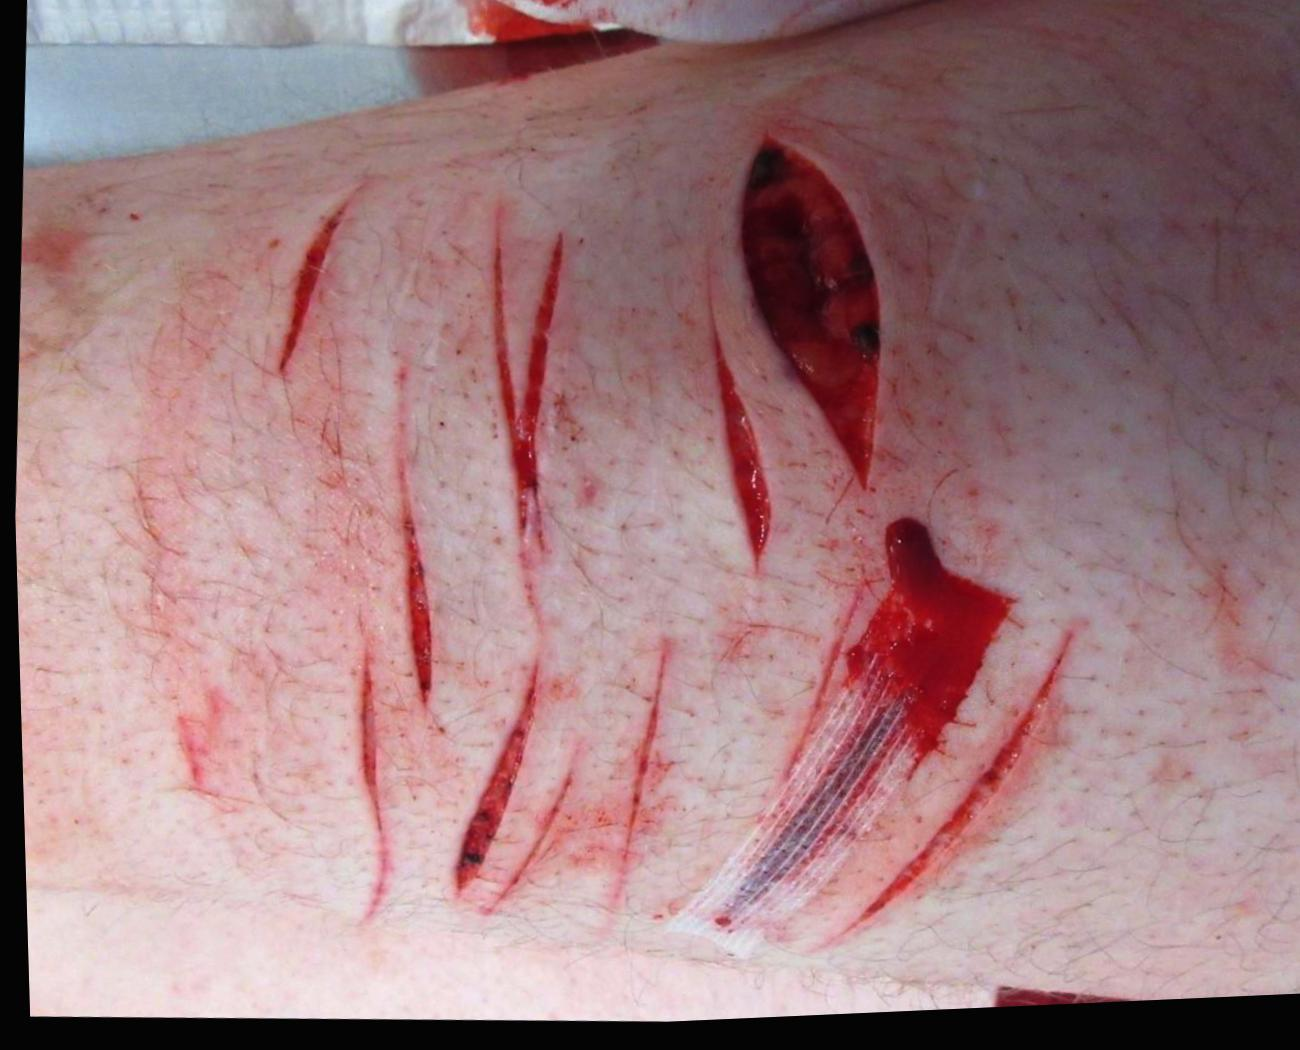Fire: (855, 644, 1070, 932), (739, 148, 878, 492), (861, 529, 988, 764), (491, 239, 562, 540), (450, 679, 532, 896), (712, 340, 766, 572), (275, 204, 346, 374), (355, 658, 385, 925), (399, 517, 428, 709)
